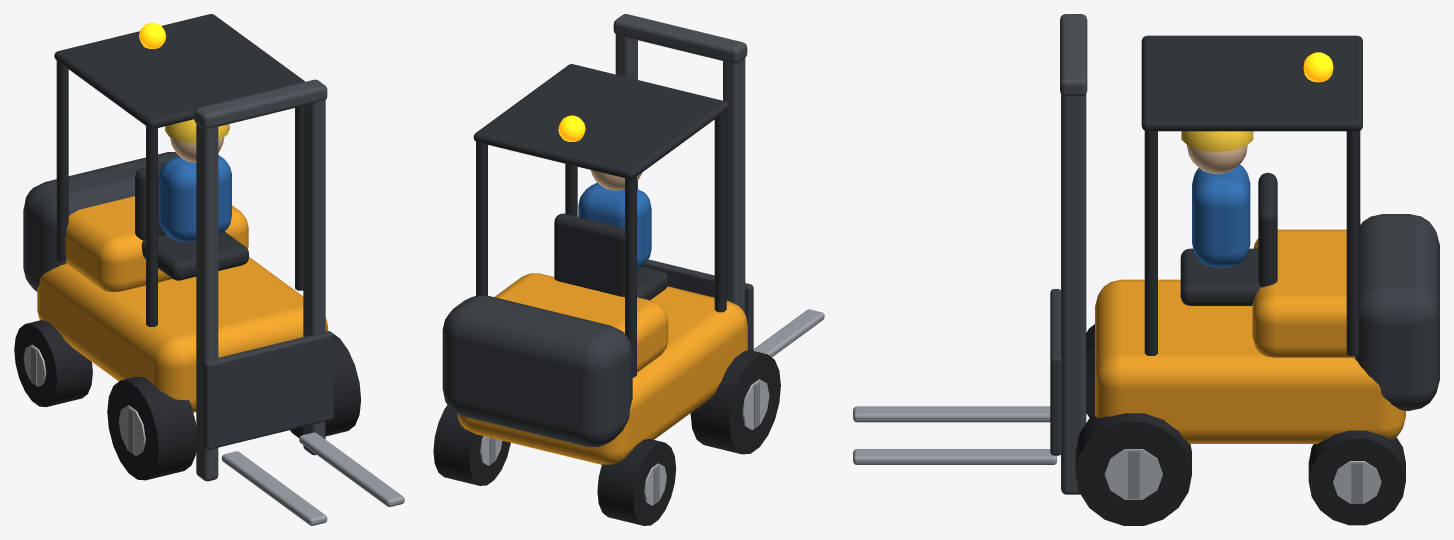
File: forklift.glb
3 renders of one model, left to right at view 1: azimuth 30°, elevation 25°; view 2: azimuth 150°, elevation 25°; view 3: azimuth 270°, elevation 25°, orthographic. The views are drawn at different scales.
Bounding box in the file's own units: 1.39 × 2.41 × 3.02.
